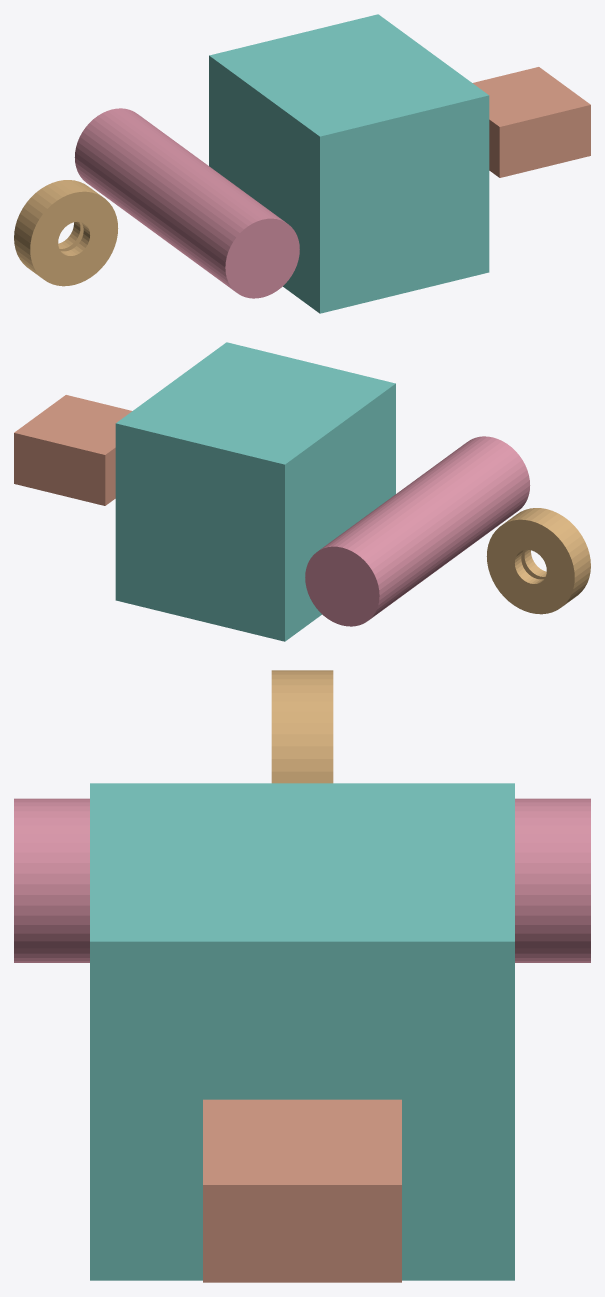
The model's file is vitamin_demo.glb.
3 renders of one model, top to bottom at view 1: azimuth 30°, elevation 25°; view 2: azimuth 150°, elevation 25°; view 3: azimuth 270°, elevation 25°, orthographic. The views are drawn at different scales.
Parts seen in each view (by area): view 1: motor_nema17, cell_18650, servo_sg90, bearing_608-2rs; view 2: motor_nema17, cell_18650, servo_sg90, bearing_608-2rs; view 3: motor_nema17, servo_sg90, cell_18650, bearing_608-2rs.
Boxes of the visible parts, x1,y1,x2,y2 form: motor_nema17: [209, 14, 489, 313]; cell_18650: [74, 108, 299, 298]; servo_sg90: [473, 67, 590, 177]; bearing_608-2rs: [14, 180, 118, 286]; motor_nema17: [115, 342, 395, 641]; cell_18650: [305, 436, 530, 626]; servo_sg90: [14, 395, 131, 505]; bearing_608-2rs: [486, 508, 590, 614]; motor_nema17: [90, 783, 514, 1280]; servo_sg90: [203, 1099, 401, 1282]; cell_18650: [14, 798, 590, 962]; bearing_608-2rs: [271, 670, 333, 783].
Bounding box in the file's own units: 136 × 42.3 × 65.2.
